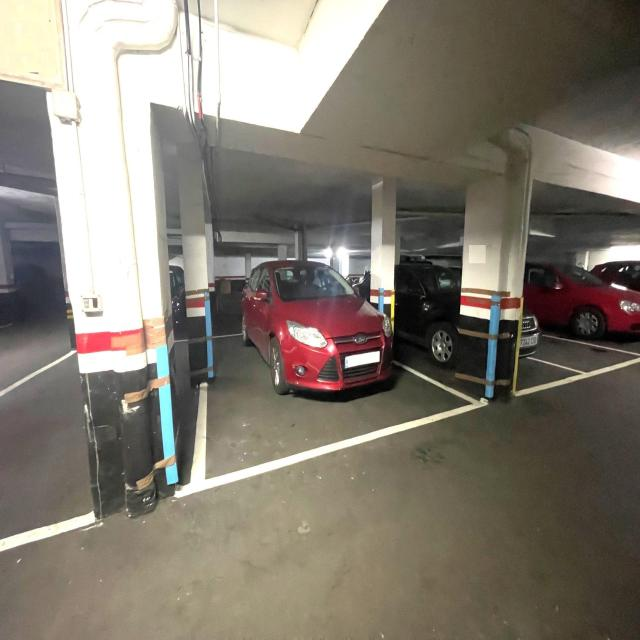libre: (1, 319, 96, 525), (547, 323, 636, 377)
ocupado: (205, 251, 408, 416), (396, 244, 542, 381), (525, 233, 640, 340)
